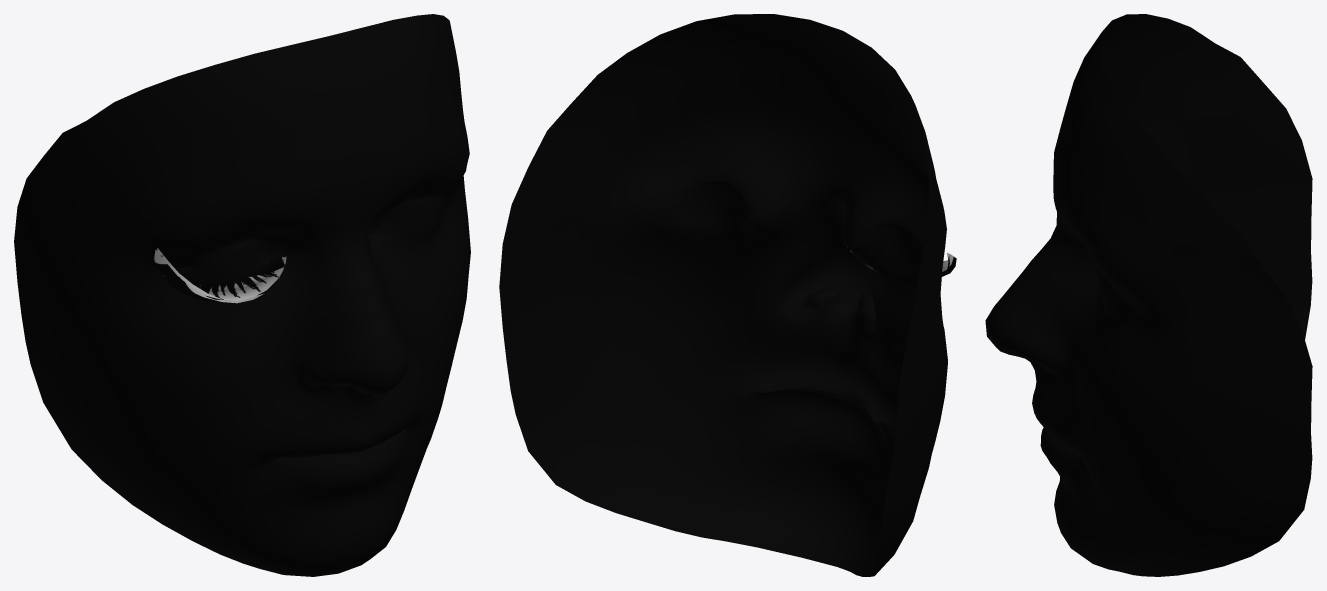
File: deconeyelashes.fbx
3 views of the same model, side by side, from view 1: azimuth 30°, elevation 25°; view 2: azimuth 150°, elevation 25°; view 3: azimuth 270°, elevation 25° (orthographic). The views are drawn at different scales.
Visible parts, largest first — view 1: guide, eyelasheup; view 2: guide; view 3: guide.
Part boxes in pixels (box(x1,y1,x2,y2)): guide: box(14, 14, 470, 576); eyelasheup: box(154, 248, 286, 303); guide: box(499, 14, 947, 576); guide: box(985, 14, 1312, 576).
Bounding box in the file's own units: 14.47 × 18.2 × 10.55.
2 materials, 2 textured.
